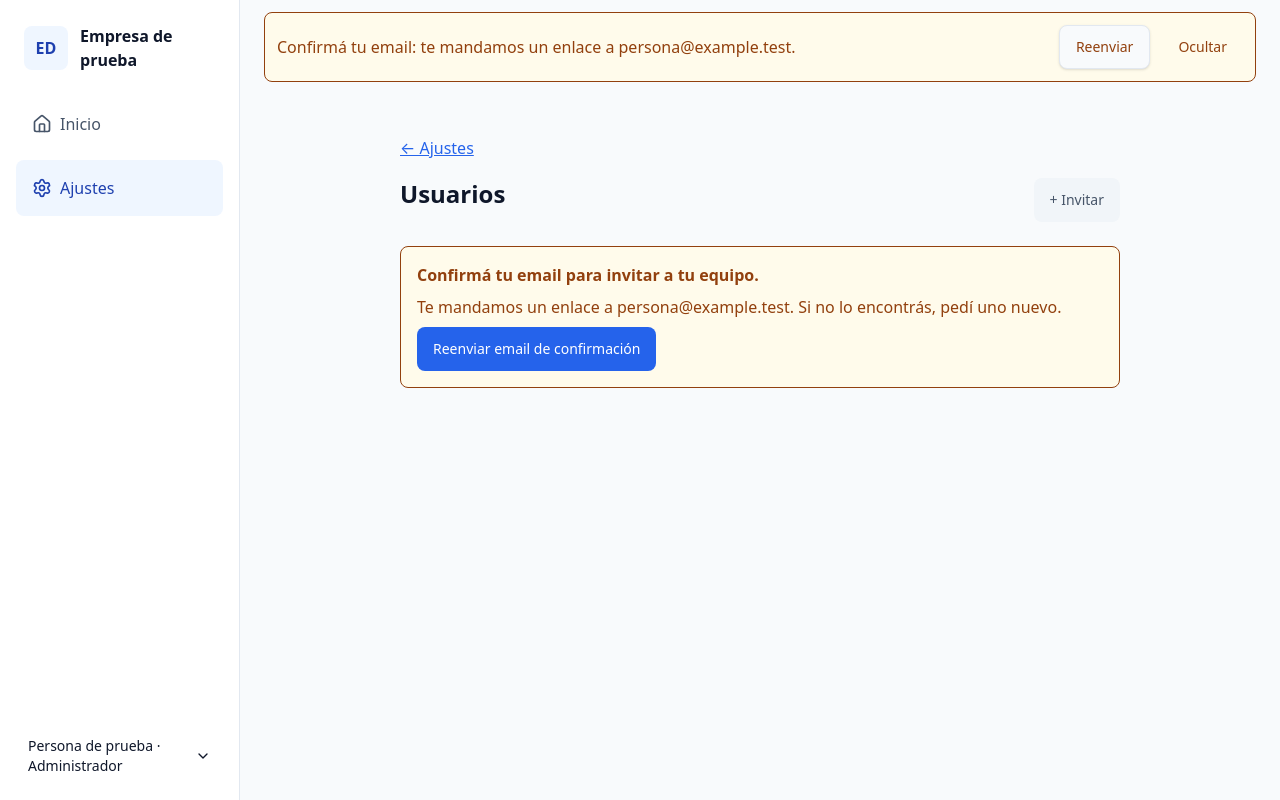
Test: session guards and global failures › does not announce resend success when the session was already verified
This screenshot has width=1280, height=800.
Click the button "Reenviar" at x=1105, y=47, box [1059,25,1150,69]
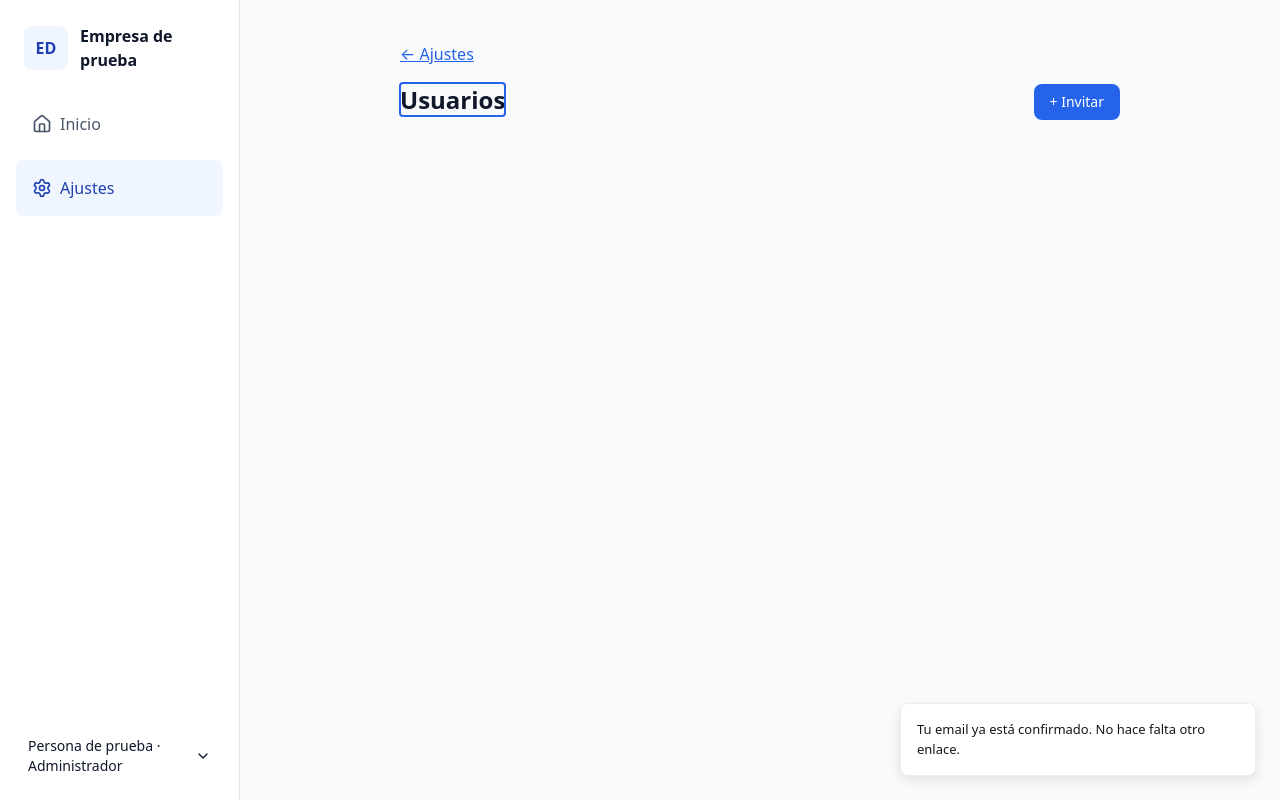
expect the text "Tu email ya está confirmado. No hace falta otro enlace." is shown: met, box [917,720,1239,759]
